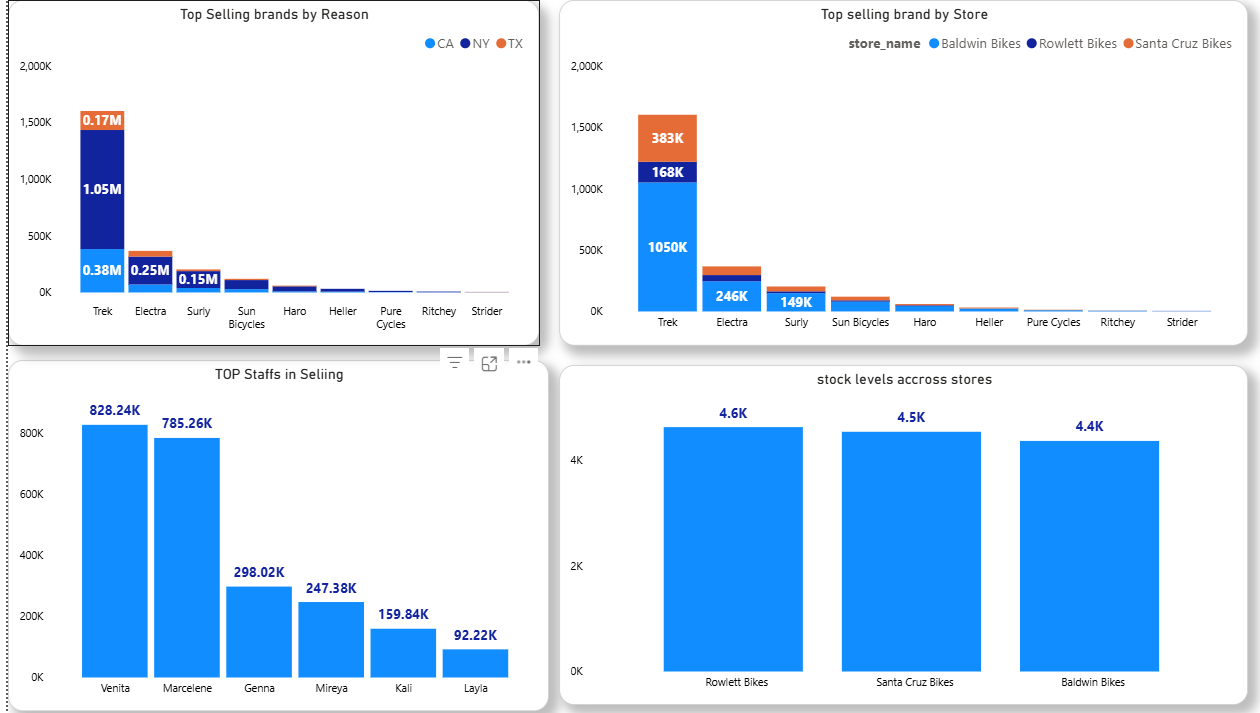

What the dashboard file says about the page in this screenshot:
{"tool":"powerbi","page":{"name":"Business Insights","canvas":[1280,720],"ordinal":2},"visuals":[{"type":"columnChart","title":"Top selling  brand by Store","fields":{"Y":["order_items.Total_sales"],"Category":["brands.brand_name"],"Series":["stores.store_name"]},"box":[551.6,0,688.9,345.8],"z":0},{"type":"columnChart","title":"TOP Staffs in Seliing","fields":{"Y":["order_items.Total_sales"],"Category":["staffs.first_name"]},"box":[0,359.5,540.7,351.3],"z":1000},{"type":"columnChart","title":"stock levels accross stores ","fields":{"Category":["stores.store_name"],"Y":["Sum(stocks.quantity)"]},"box":[551.6,365,688.9,340.3],"z":2000},{"type":"columnChart","title":"Top Selling brands by Reason","fields":{"Series":["stores.state"],"Y":["order_items.Total_sales"],"Category":["brands.brand_name"]},"box":[0,0,531,345.8],"z":3000}]}

Visuals, with their boxes in screenshot pixels (x1, y1, x2, y2), scaled from the page's 1280x720 canvas onto the 1260x713 screenshot:
"Top selling  brand by Store" columnChart: 543,0,1221,342
"TOP Staffs in Seliing" columnChart: 0,356,532,704
"stock levels accross stores " columnChart: 543,361,1221,698
"Top Selling brands by Reason" columnChart: 0,0,523,342
